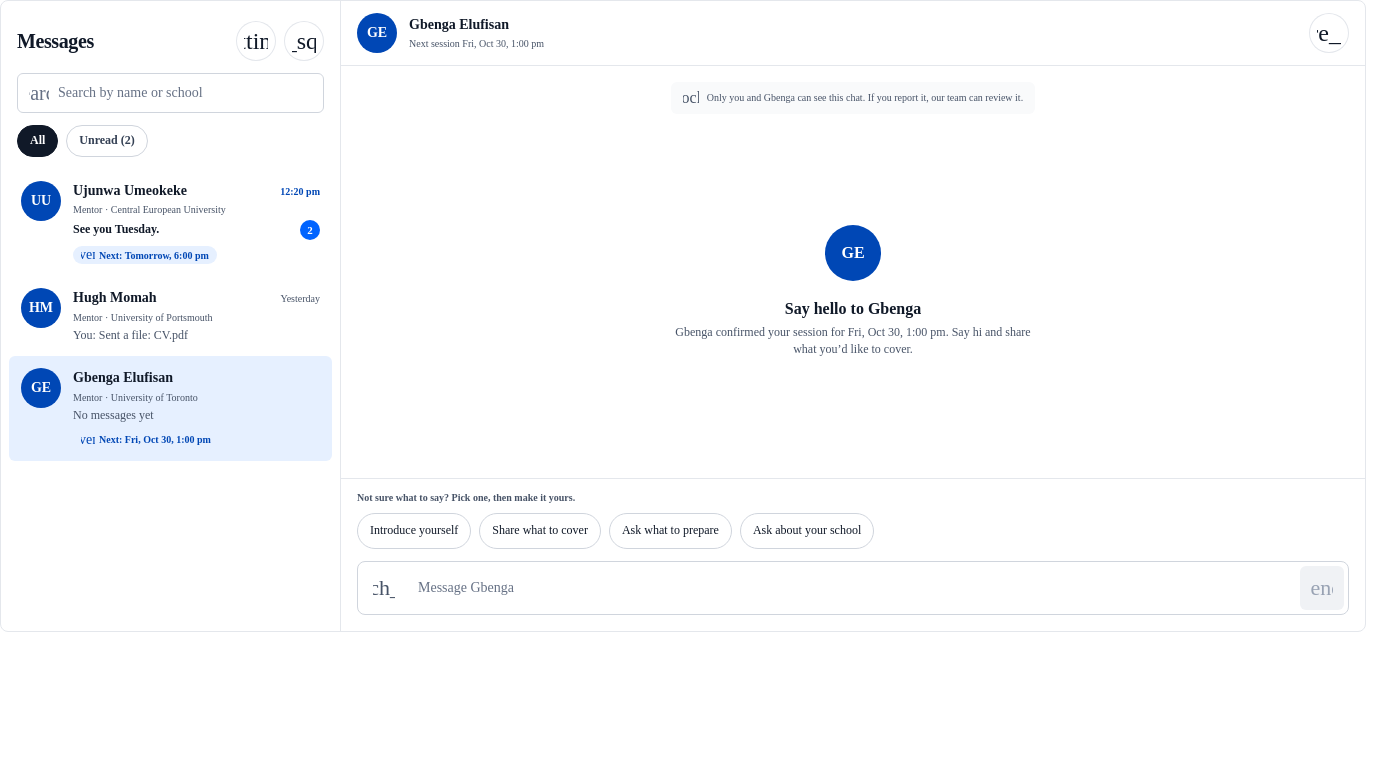
Test: an empty chat and its starters › mentee, a session upcoming: the confirmed line and the chips from their goal
This screenshot has width=1378, height=768.
Expected: the heading "Say hello to Gbenga" is shown, [785,300,921,317]
Expected: the text "Not sure what to say? Pick one, then make it yours." is shown, [357,492,575,502]
Click the button "Introduce yourself": x=414, y=531 [357,513,471,549]
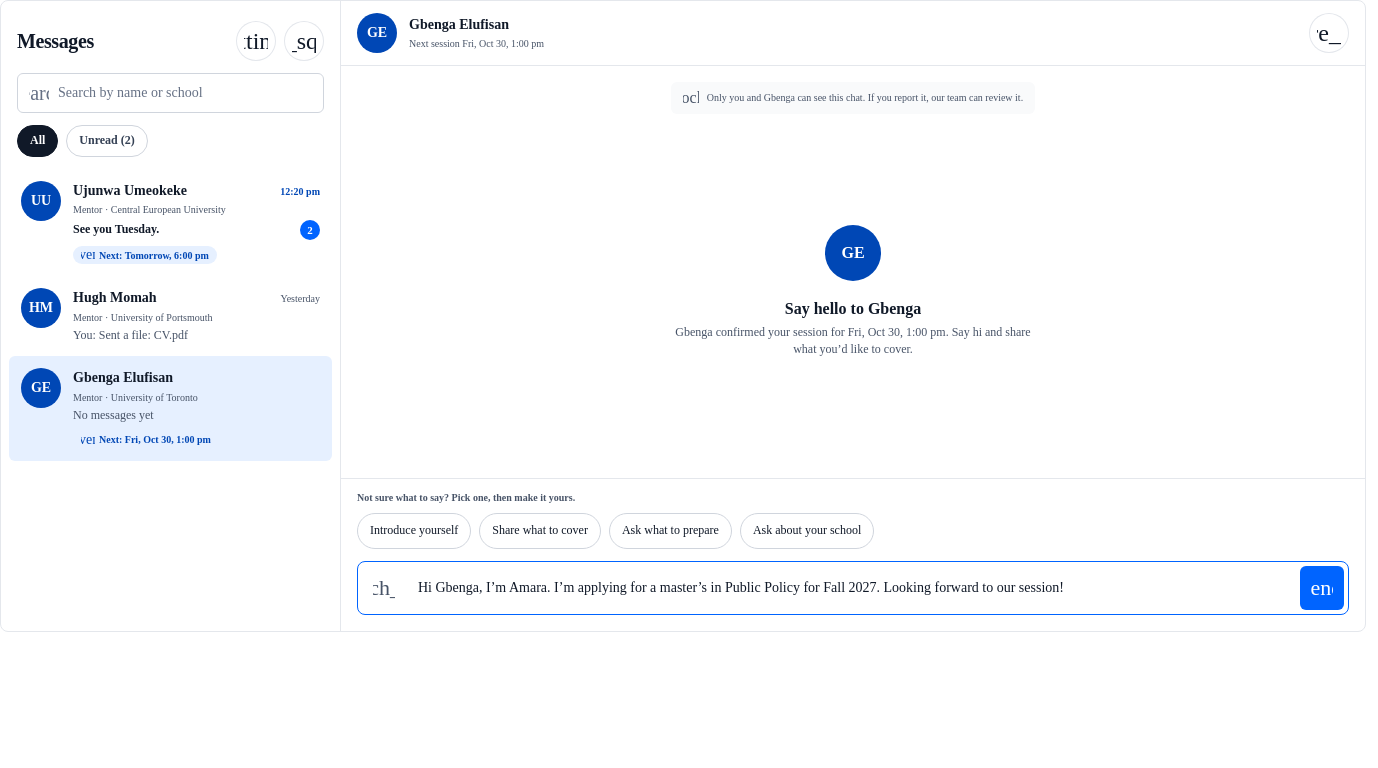
Now the text box named "Message Gbenga" holds "Hi Gbenga, I’m Amara. I’m applying for a master’s in Public Policy for Fall 2027. Looking forward to our session!", box [414,566,1292,610]
Click the button "Share what to cover": x=540, y=531 [479,513,601,549]
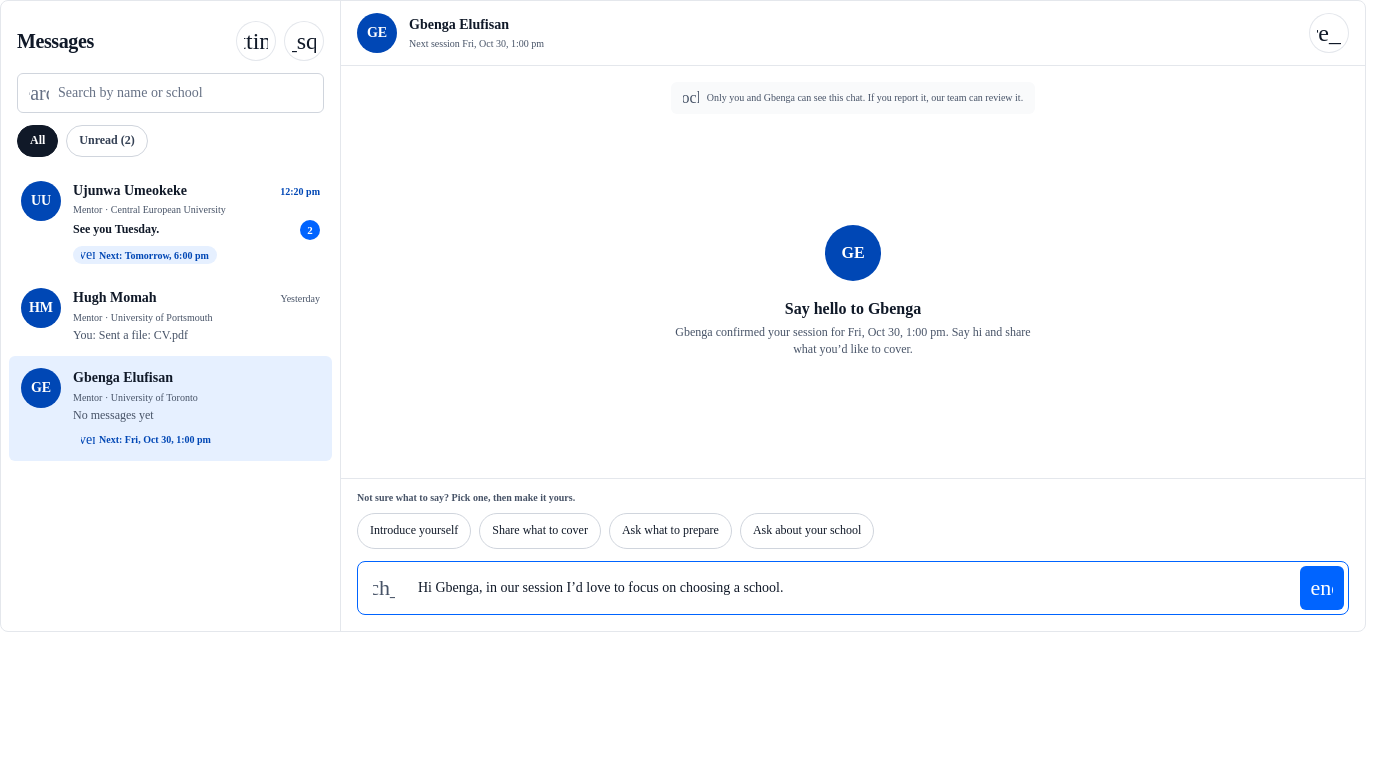
Now the text box named "Message Gbenga" holds "Hi Gbenga, in our session I’d love to focus on choosing a school.", box [414,566,1292,610]
